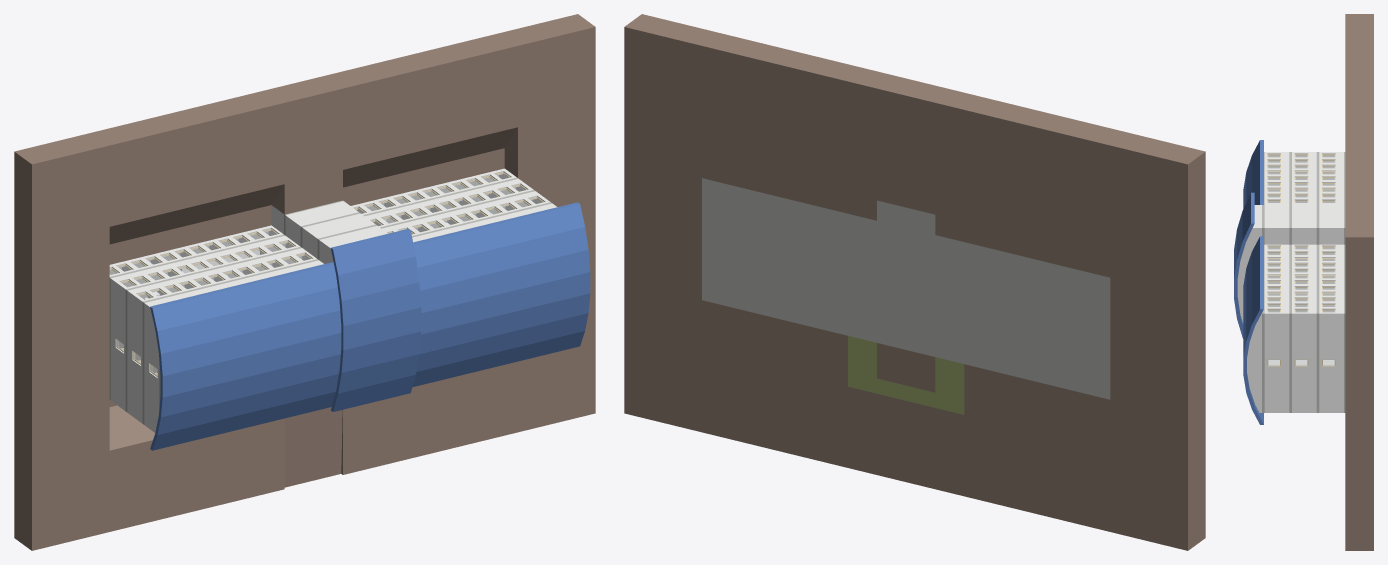
Rendered from universidade.gltf.
3 renders of one model, left to right at view 1: azimuth 30°, elevation 25°; view 2: azimuth 150°, elevation 25°; view 3: azimuth 270°, elevation 25°, orthographic. The views are drawn at different scales.
Parts seen in each view (by area): view 1: Gelaende 0815, Dachgeschoss, 1. Obergeschoss, Erdgeschoss, 2. Obergeschoss, Keller; view 2: Gelaende 0815, Keller; view 3: Gelaende 0815, 1. Obergeschoss, 2. Obergeschoss, Erdgeschoss, Dachgeschoss.
Part boxes in pixels (x1=…): Gelaende 0815: x1=14, y1=14, x2=595, y2=550; Dachgeschoss: x1=150, y1=202, x2=590, y2=450; 1. Obergeschoss: x1=125, y1=190, x2=550, y2=423; Erdgeschoss: x1=109, y1=177, x2=533, y2=410; 2. Obergeschoss: x1=142, y1=202, x2=557, y2=432; Keller: x1=109, y1=168, x2=516, y2=276; Gelaende 0815: x1=624, y1=14, x2=1205, y2=550; Keller: x1=702, y1=178, x2=1110, y2=399; Gelaende 0815: x1=1345, y1=14, x2=1373, y2=550; 1. Obergeschoss: x1=1292, y1=152, x2=1319, y2=412; 2. Obergeschoss: x1=1264, y1=152, x2=1291, y2=412; Erdgeschoss: x1=1319, y1=152, x2=1345, y2=412; Dachgeschoss: x1=1234, y1=140, x2=1264, y2=424.
Size of the model in its own units: 58 by 38 by 15.35.
